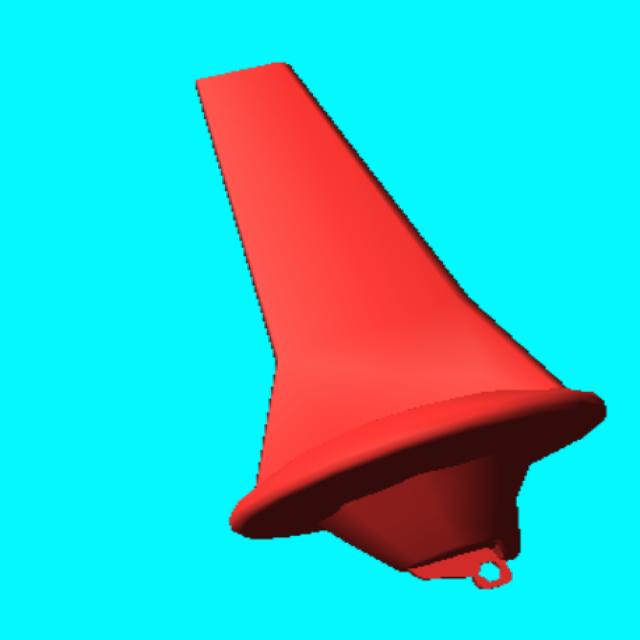RedBuoy: (197, 64, 604, 588)
